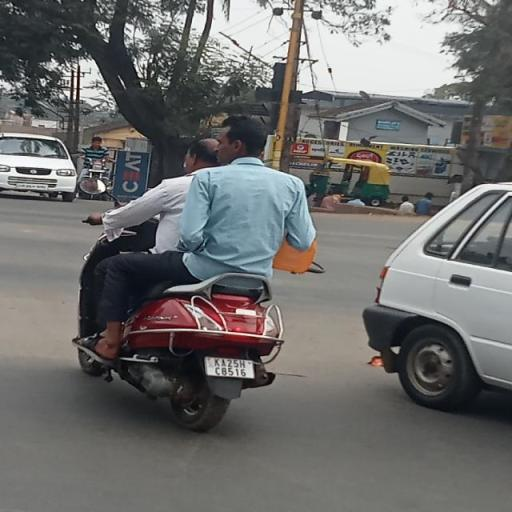bike: (58, 110, 331, 432)
numberplate: (204, 355, 258, 377)
withouthelmet: (218, 117, 266, 160), (188, 139, 222, 171)
